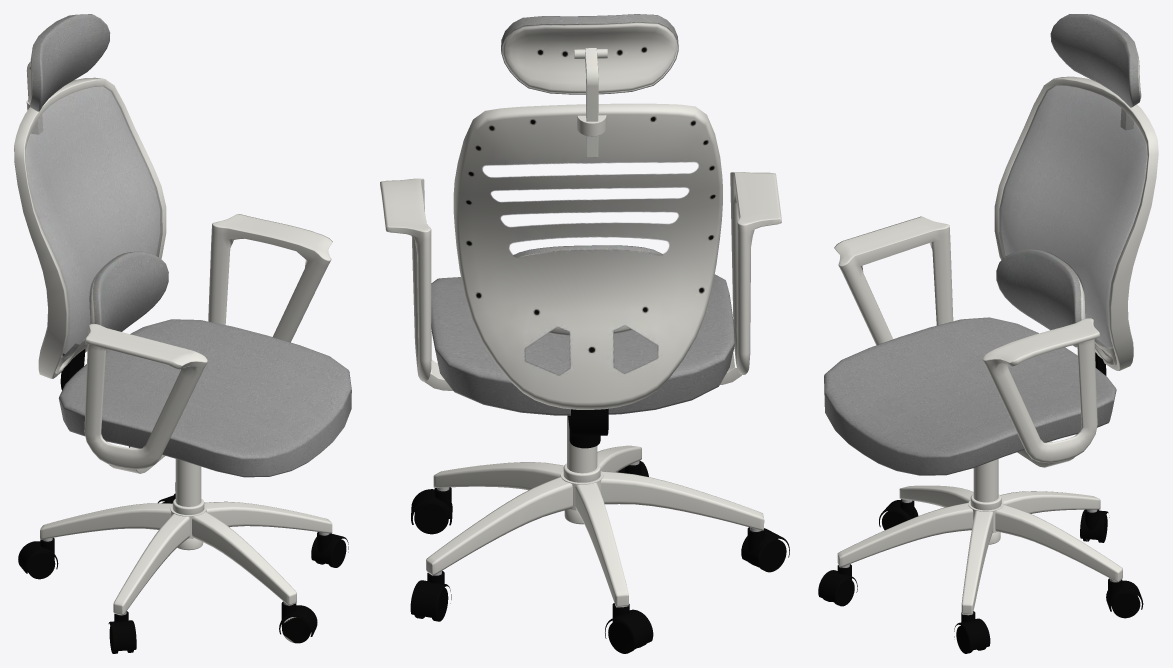
3 views of the same model, side by side, from view 1: azimuth 30°, elevation 25°; view 2: azimuth 150°, elevation 25°; view 3: azimuth 270°, elevation 25° (orthographic). The views are drawn at different scales.
Visible parts, largest first — view 1: chair_41_0; view 2: chair_41_0; view 3: chair_41_0.
Part boxes in pixels (x1,y1,x2,y2): chair_41_0: (14, 14, 351, 653); chair_41_0: (380, 14, 789, 653); chair_41_0: (818, 14, 1158, 653).
Bounding box in the file's own units: 0.6649 × 1.14 × 0.6675.
Materials: 1 (1 with a texture image).
